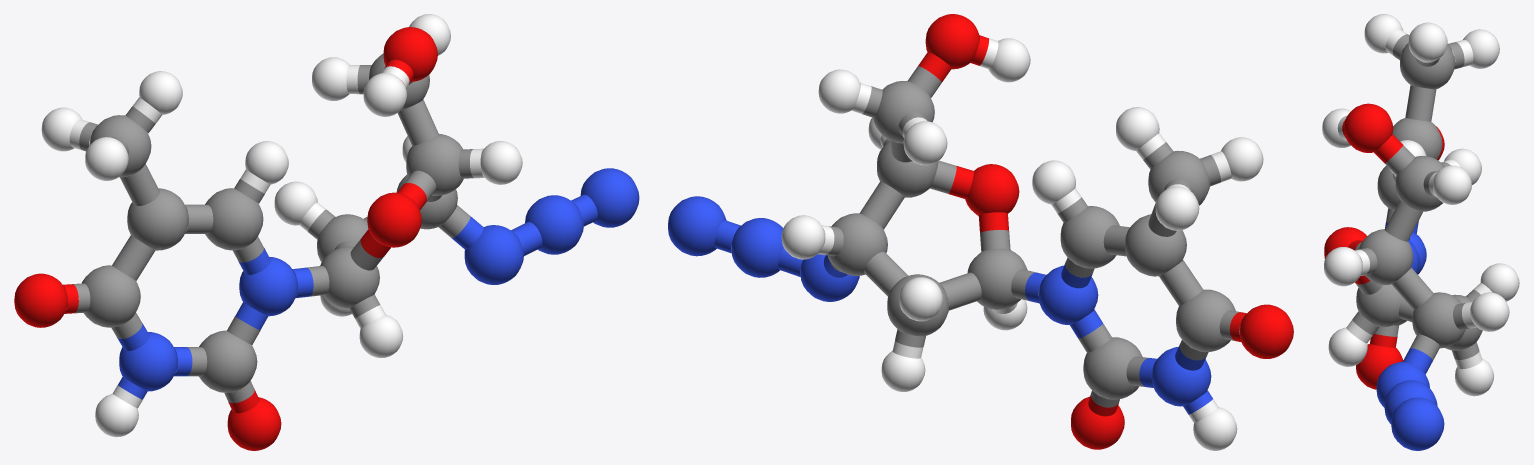
File: molecule.glb
3 views of the same model, side by side, from view 1: azimuth 30°, elevation 25°; view 2: azimuth 150°, elevation 25°; view 3: azimuth 270°, elevation 25° (orthographic). The views are drawn at different scales.
Bounding box in the file's own units: 11.64 × 6.98 × 3.59.
